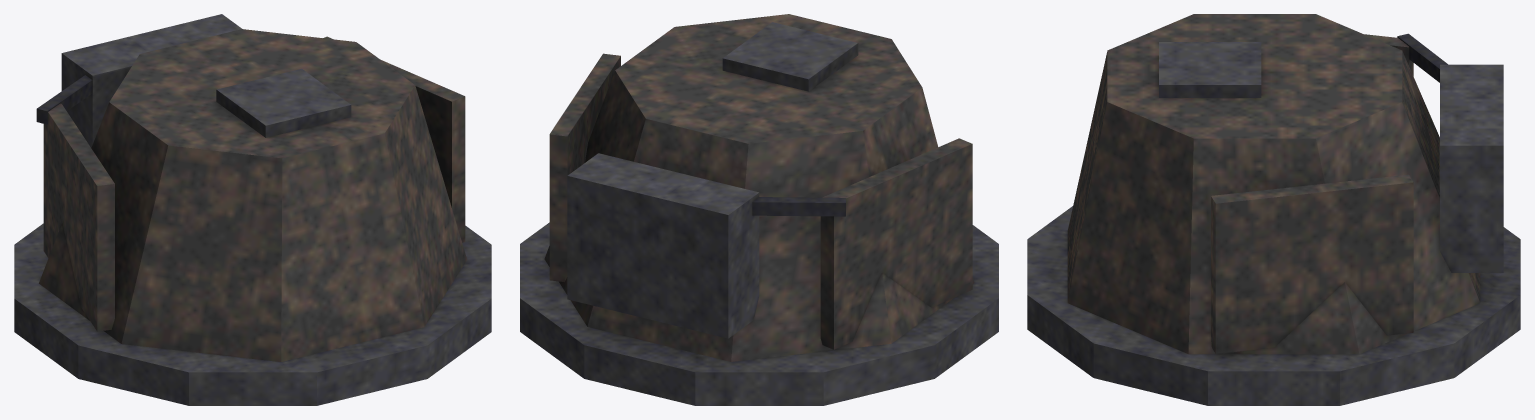
The model's file is SM_TurretTower_Head.fbx.
The picture shows the model from 3 angles, left to right: view 1: azimuth 30°, elevation 25°; view 2: azimuth 150°, elevation 25°; view 3: azimuth 270°, elevation 25°; orthographic projection. The views are drawn at different scales.
Parts seen in each view (by area): view 1: SM_TurretTower_Head; view 2: SM_TurretTower_Head; view 3: SM_TurretTower_Head.
Part boxes in pixels (x1,y1,x2,y2): SM_TurretTower_Head: [14, 14, 491, 405]; SM_TurretTower_Head: [520, 14, 998, 405]; SM_TurretTower_Head: [1027, 14, 1520, 405].
Size of what is drawn, in the model's own units: 386 by 206 by 386.
Materials: 1 (1 with a texture image).
